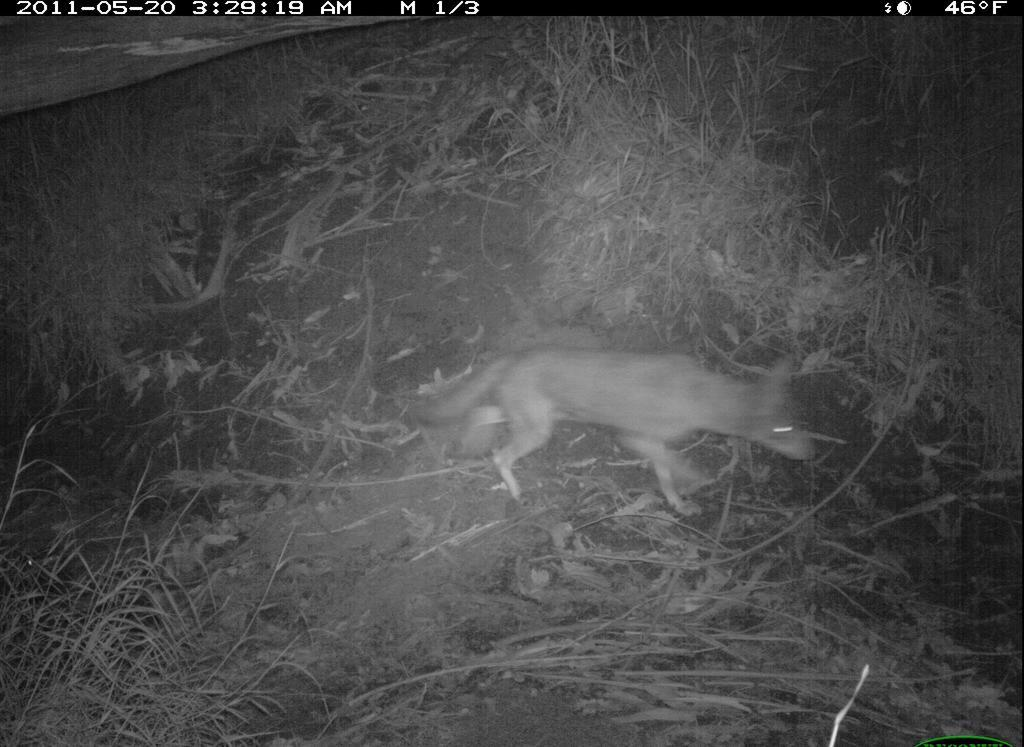coyote: (402, 324, 847, 504)
